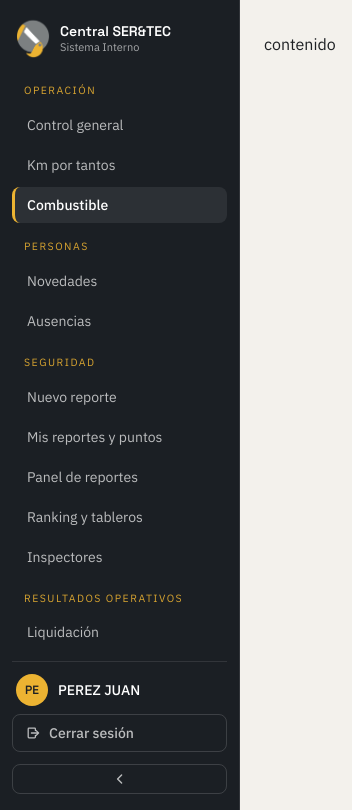
Scenario: AppShell — sidebar plegable (escritorio) › al plegar quedan íconos con aria-label y sin texto visible
Click the button named "Plegar menú".
click(120, 779)  # box [12,764,227,794]
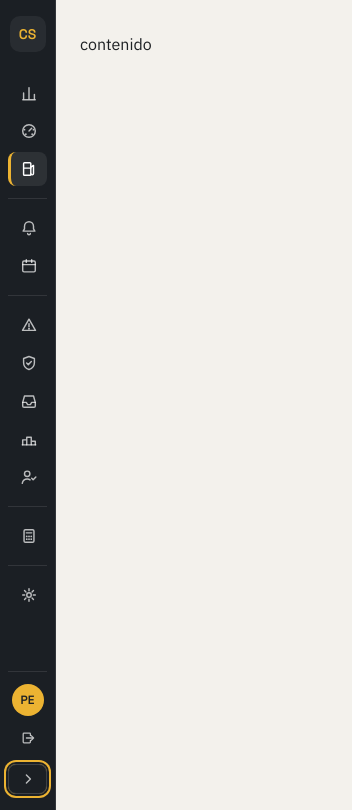
expect the link named "Combustible" no longer shows "Combustible": met, box [8,152,47,186]
expect the button named "Desplegar menú" is shown: met, box [8,764,47,794]
